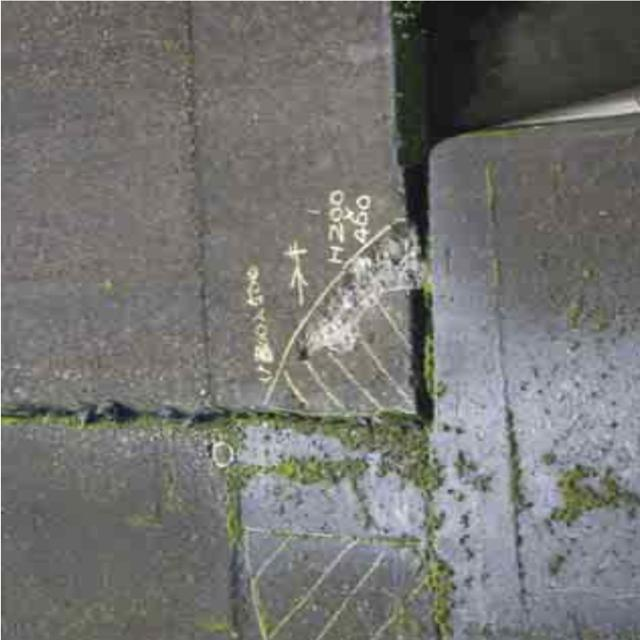spalling: (307, 209, 423, 387)
